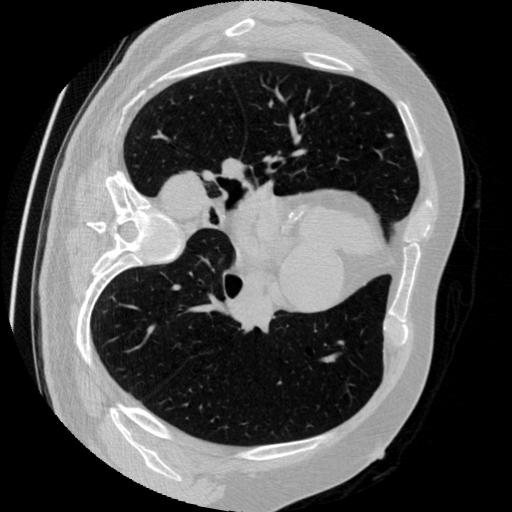nodule: (384, 131, 396, 143)
